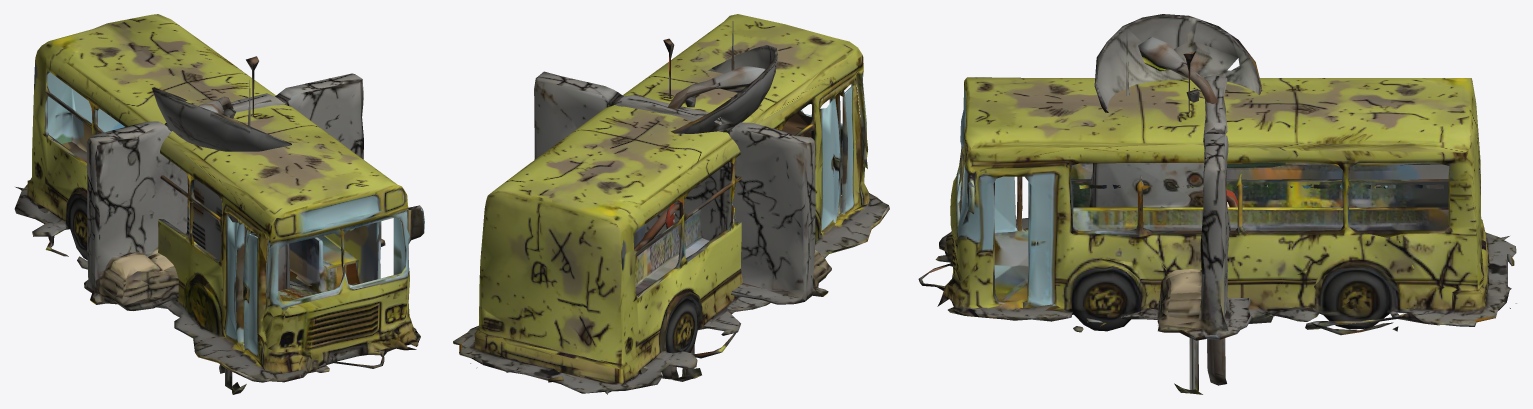
Rendered from props.fbx.
The picture shows the model from 3 angles, left to right: view 1: azimuth 30°, elevation 25°; view 2: azimuth 150°, elevation 25°; view 3: azimuth 270°, elevation 25°; orthographic projection. The views are drawn at different scales.
Parts seen in each view (by area): view 1: tripo_node_2bdb64de.005, tripo_node_2bdb64de.003, tripo_node_2bdb64de.001, tripo_node_2bdb64de.002, tripo_node_2bdb64de.004, tripo_node_2bdb64de.006; view 2: tripo_node_2bdb64de.005, tripo_node_2bdb64de.003, tripo_node_2bdb64de.001, tripo_node_2bdb64de.004, tripo_node_2bdb64de.002, tripo_node_2bdb64de.006; view 3: tripo_node_2bdb64de.005, tripo_node_2bdb64de.003, tripo_node_2bdb64de.001, tripo_node_2bdb64de.002, tripo_node_2bdb64de.004, tripo_node_2bdb64de.006.
Part boxes in pixels (left/top/right/bottom): tripo_node_2bdb64de.005: left=14, top=14, right=424, bottom=382; tripo_node_2bdb64de.003: left=84, top=73, right=385, bottom=310; tripo_node_2bdb64de.001: left=152, top=56, right=291, bottom=151; tripo_node_2bdb64de.002: left=187, top=80, right=289, bottom=290; tripo_node_2bdb64de.004: left=199, top=96, right=233, bottom=373; tripo_node_2bdb64de.006: left=223, top=107, right=246, bottom=394; tripo_node_2bdb64de.005: left=453, top=14, right=889, bottom=394; tripo_node_2bdb64de.003: left=534, top=71, right=831, bottom=304; tripo_node_2bdb64de.001: left=663, top=38, right=777, bottom=133; tripo_node_2bdb64de.004: left=662, top=65, right=765, bottom=379; tripo_node_2bdb64de.002: left=634, top=21, right=734, bottom=250; tripo_node_2bdb64de.006: left=665, top=96, right=701, bottom=381; tripo_node_2bdb64de.005: left=918, top=77, right=1516, bottom=335; tripo_node_2bdb64de.003: left=1157, top=75, right=1251, bottom=340; tripo_node_2bdb64de.001: left=1094, top=14, right=1273, bottom=323; tripo_node_2bdb64de.002: left=1089, top=27, right=1357, bottom=208; tripo_node_2bdb64de.004: left=1138, top=37, right=1226, bottom=385; tripo_node_2bdb64de.006: left=1174, top=89, right=1285, bottom=394.
Bounding box in the file's own units: 40.28 × 45.84 × 68.65.
